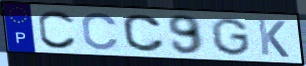9: (166, 13, 207, 56)
C: (120, 13, 168, 54), (36, 9, 79, 51), (81, 11, 122, 52)
G: (209, 16, 253, 57)
K: (255, 17, 291, 59)
